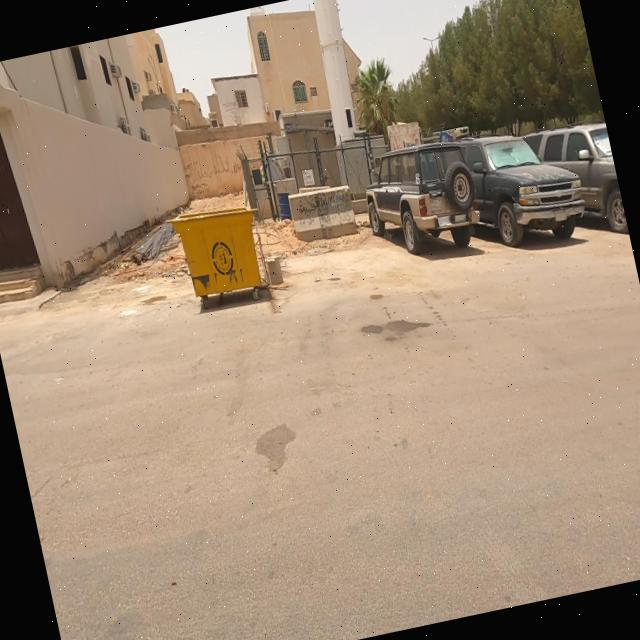Graffiti: (184, 153, 243, 198), (297, 188, 355, 233), (391, 137, 402, 152)
